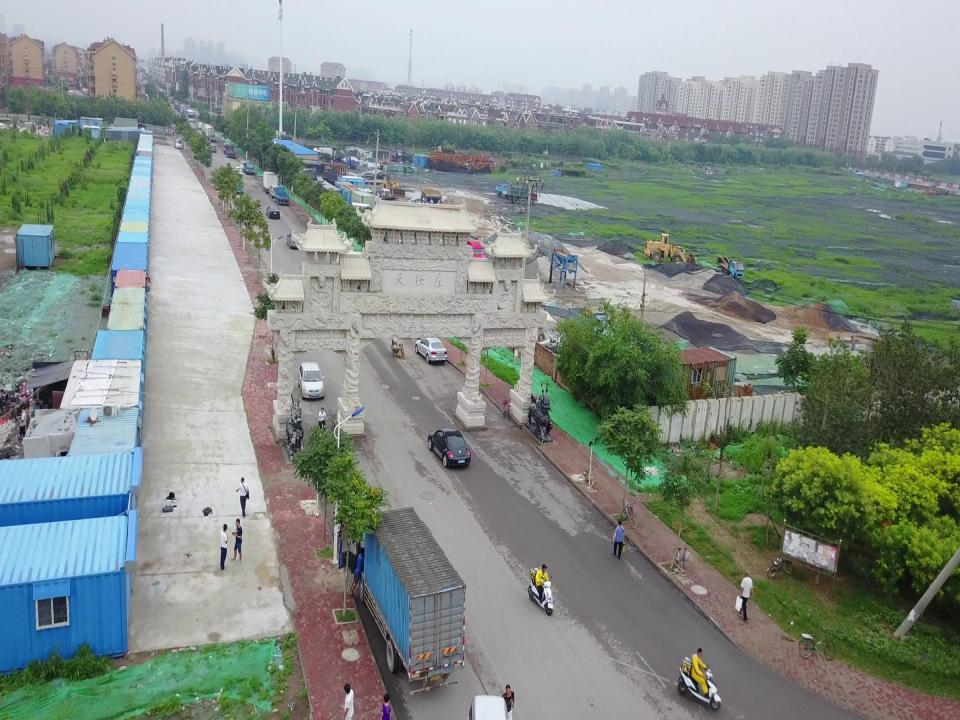car: (428, 426, 471, 469), (296, 361, 326, 401), (414, 337, 448, 364), (286, 230, 304, 250), (265, 205, 281, 219), (360, 170, 374, 181), (374, 170, 388, 181), (232, 166, 244, 175), (239, 160, 249, 170), (210, 143, 216, 153)
truck: (337, 504, 467, 695), (434, 224, 489, 264), (568, 306, 616, 344), (716, 255, 747, 281), (506, 185, 538, 206), (262, 170, 280, 195), (496, 182, 524, 198), (227, 171, 245, 194), (274, 185, 291, 206), (342, 155, 360, 169), (243, 162, 255, 176), (224, 146, 236, 160)
van: (268, 184, 281, 199), (380, 187, 391, 199), (174, 138, 182, 149)
